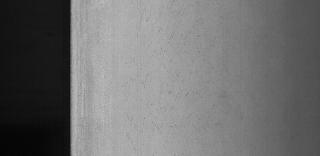silk spot: (130, 5, 226, 136)
